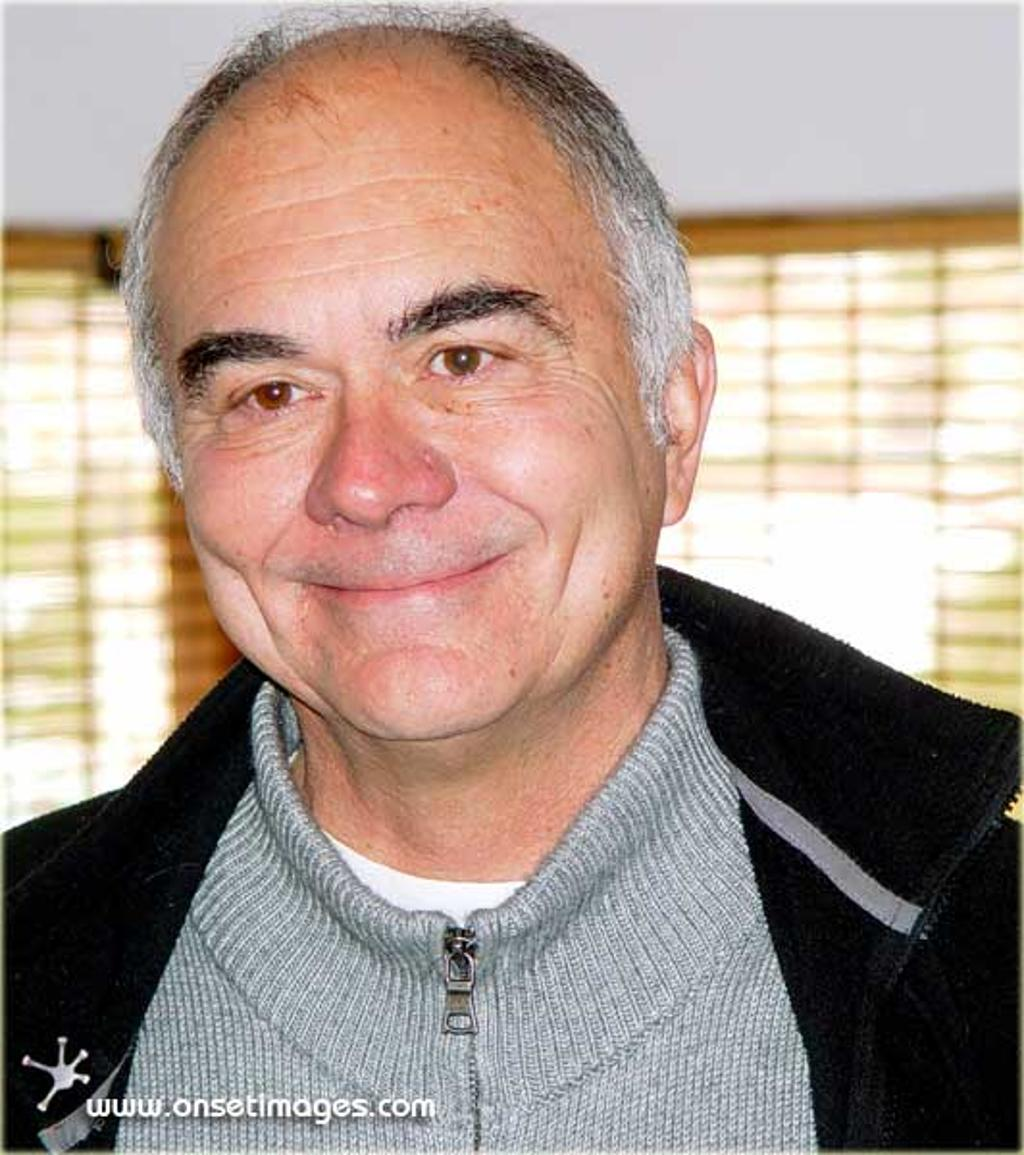face: (149, 95, 666, 729)
